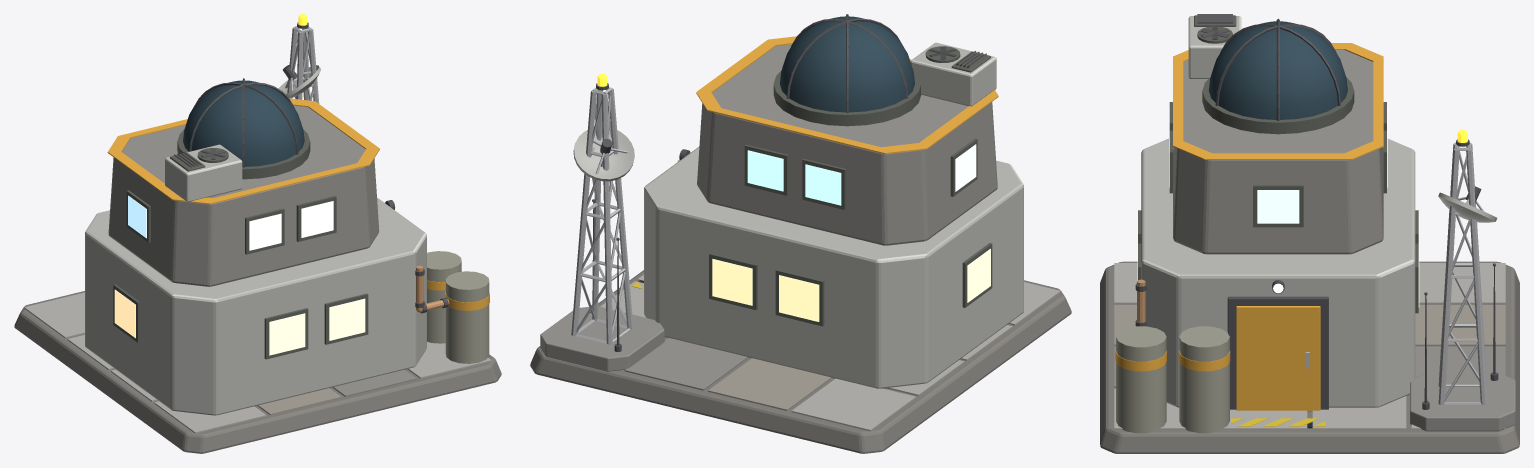
File: tech_center_orange.glb
3 views of the same model, side by side, from view 1: azimuth 30°, elevation 25°; view 2: azimuth 150°, elevation 25°; view 3: azimuth 270°, elevation 25° (orthographic). The views are drawn at different scales.
Visible parts, largest first — view 1: Body; view 2: Body; view 3: Body.
Boxes of the visible parts, bbox=[...] form: Body: bbox=[14, 14, 501, 453]; Body: bbox=[530, 14, 1071, 453]; Body: bbox=[1100, 14, 1519, 453].
Bounding box in the file's own units: 3.98 × 3.4 × 3.98.
Materials: 1 (1 with a texture image).
